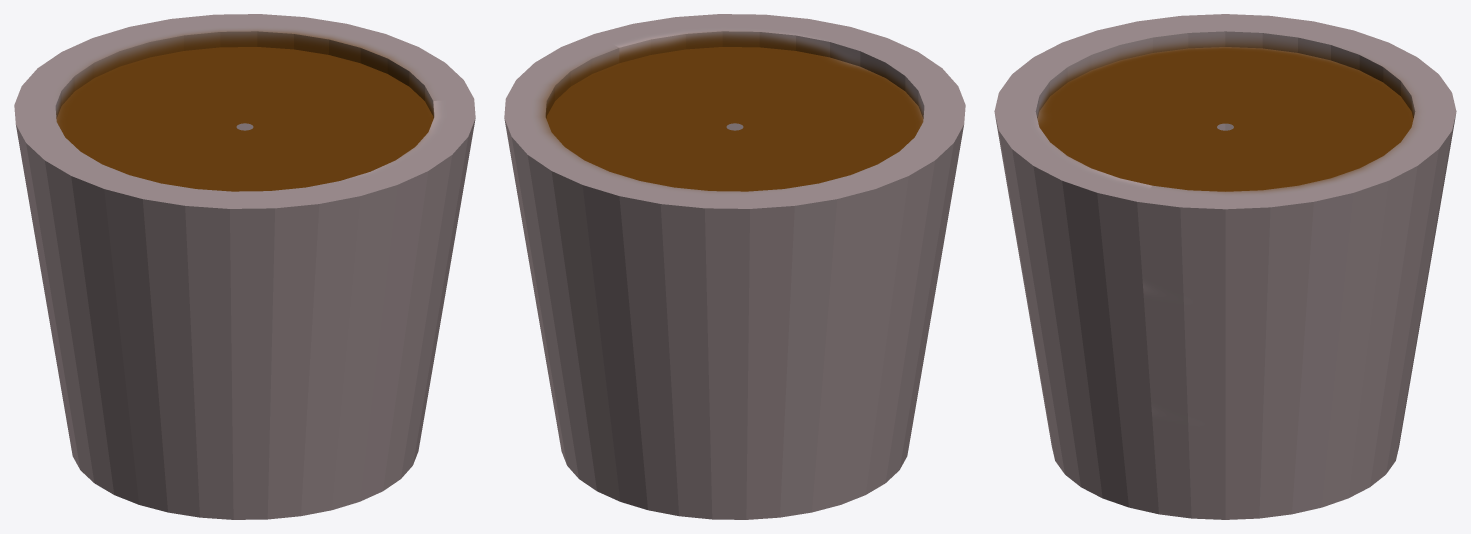
File: vaso.fbx
3 renders of one model, left to right at view 1: azimuth 30°, elevation 25°; view 2: azimuth 150°, elevation 25°; view 3: azimuth 270°, elevation 25°, orthographic.
Visible parts, largest first — view 1: Circle; view 2: Circle; view 3: Circle.
Part boxes in pixels (x1,y1,x2,y2): Circle: [14, 14, 475, 519]; Circle: [504, 14, 965, 519]; Circle: [994, 14, 1456, 519].
Bounding box in the file's own units: 266 × 213 × 266.
